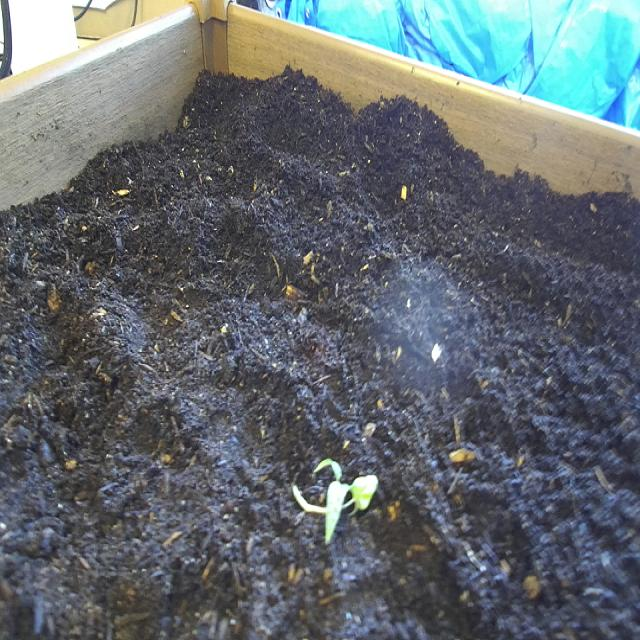Unhealthy: (287, 454, 379, 541)
